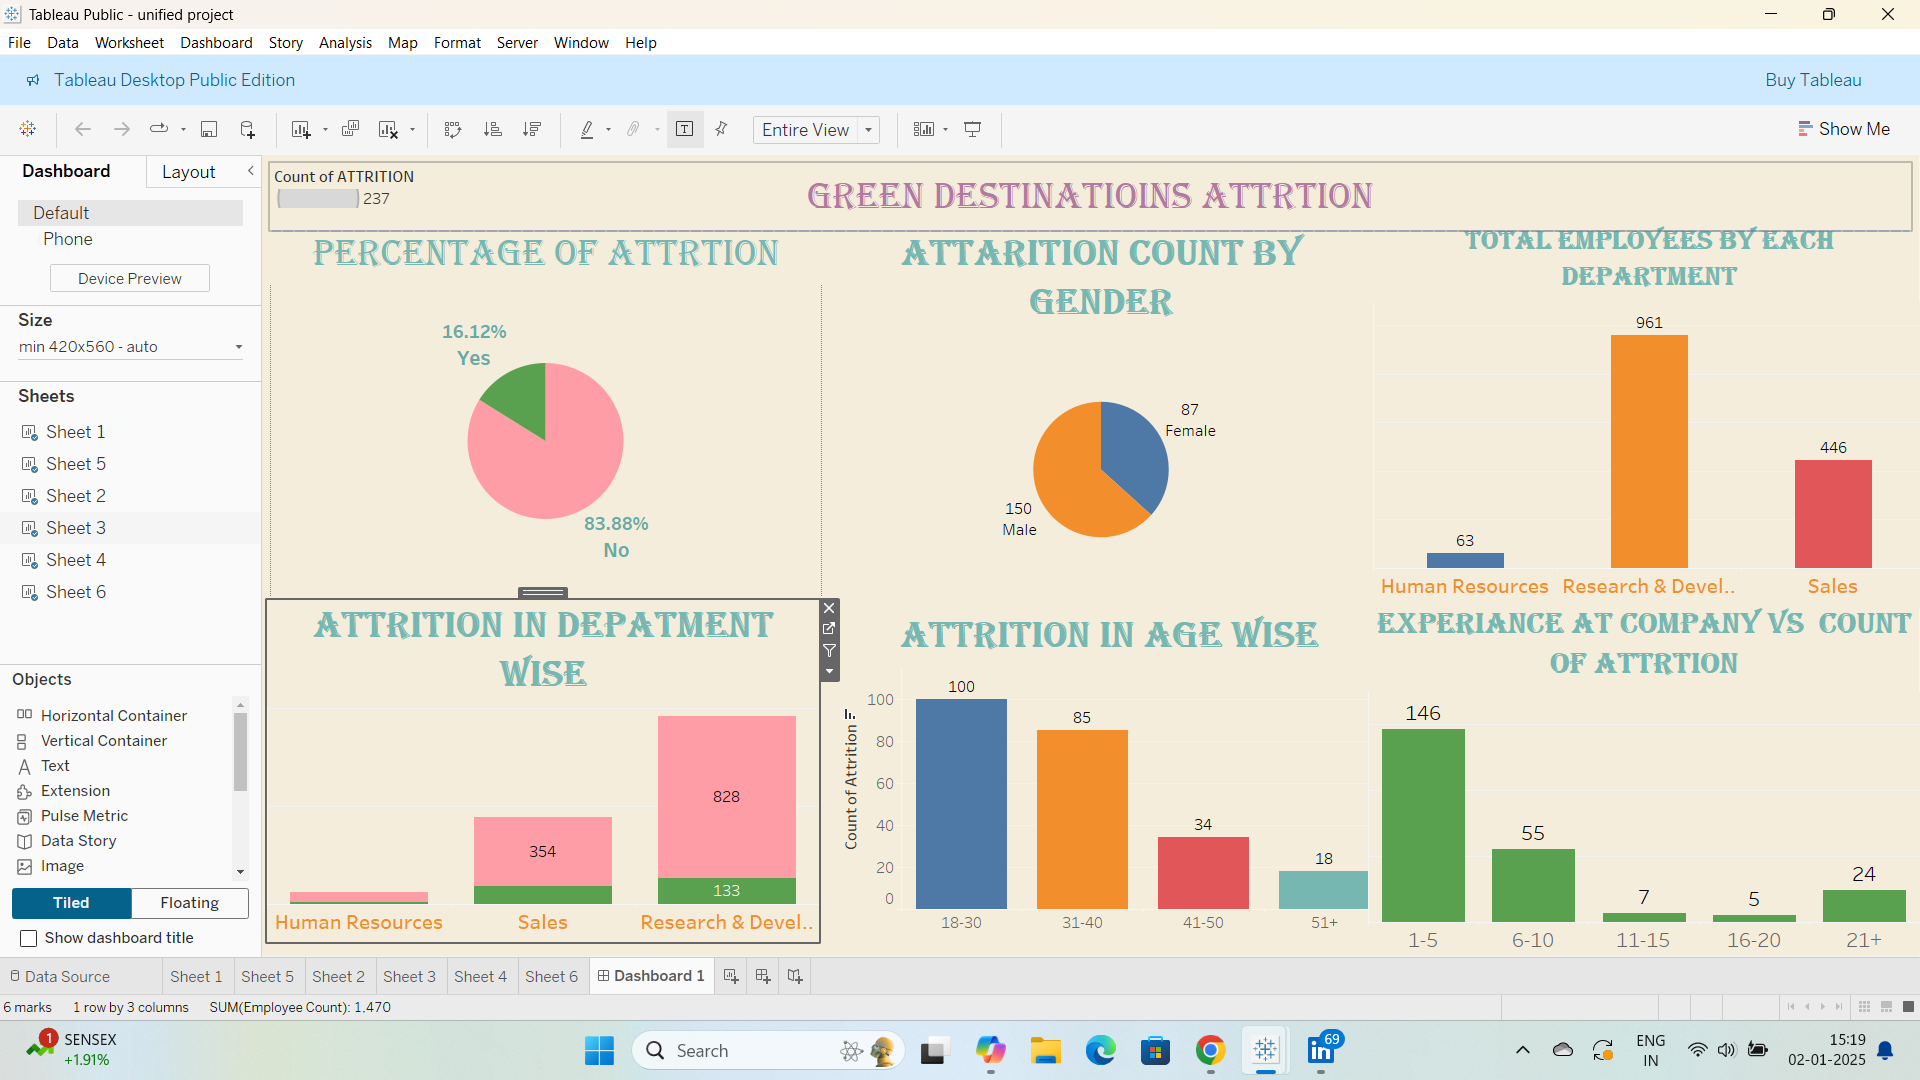

This screenshot's page, from the dashboard's own definition file:
{"tool":"tableau","page":{"name":"Dashboard 1","canvas":[1000,1000],"units":"permille","ordinal":0},"visuals":[{"type":"title","box":[6.8,12.9,986.4,108.1]},{"type":"legend","title":"Sheet 5","param":"[federated.1h2cw971eglcyx1eu4rok139q50v].[cnt:Gender:qk]","box":[7.2,13.7,84.5,53.7]},{"type":"worksheet","title":"Sheet 2","mark":"Automatic","rows":["EmployeeCount"],"cols":["Department"],"box":[670.5,82.4,333.1,483.2]},{"type":"worksheet","title":"Sheet 1","mark":"Pie","box":[4.8,91.1,333.1,461.9]},{"type":"worksheet","title":"Sheet 5","mark":"Pie","box":[339.8,91.1,333.1,470.7]},{"type":"worksheet","title":"Sheet 3","mark":"Automatic","rows":["EmployeeCount"],"cols":["Department"],"box":[3,555.6,333.1,427]},{"type":"worksheet","title":"Sheet 6","mark":"Automatic","rows":["Calculation_2067715204658470913"],"cols":["Calculation_2067715204658470913"],"box":[667.5,558.1,333.1,439.4]},{"type":"worksheet","title":"Sheet 4","mark":"Automatic","rows":["Attrition"],"cols":["Calculation_2067715204652793856"],"box":[344.6,568,333.1,404.5]}]}

Visuals, with their boxes on the dashboard's canvas, which has no fixed pixel size, in thousandths of its width and height (x1, y1, x2, y2). These are canvas units, not pixel positions in the 1920x1080 screenshot, which may show the page scaled, cropped or inside an application window:
title: x1=7, y1=13, x2=993, y2=121
"Sheet 5" legend: x1=7, y1=14, x2=92, y2=67
"Sheet 2" worksheet: x1=670, y1=82, x2=1004, y2=566
"Sheet 1" worksheet (Pie marks): x1=5, y1=91, x2=338, y2=553
"Sheet 5" worksheet (Pie marks): x1=340, y1=91, x2=673, y2=562
"Sheet 3" worksheet: x1=3, y1=556, x2=336, y2=983
"Sheet 6" worksheet: x1=668, y1=558, x2=1001, y2=998
"Sheet 4" worksheet: x1=345, y1=568, x2=678, y2=972
